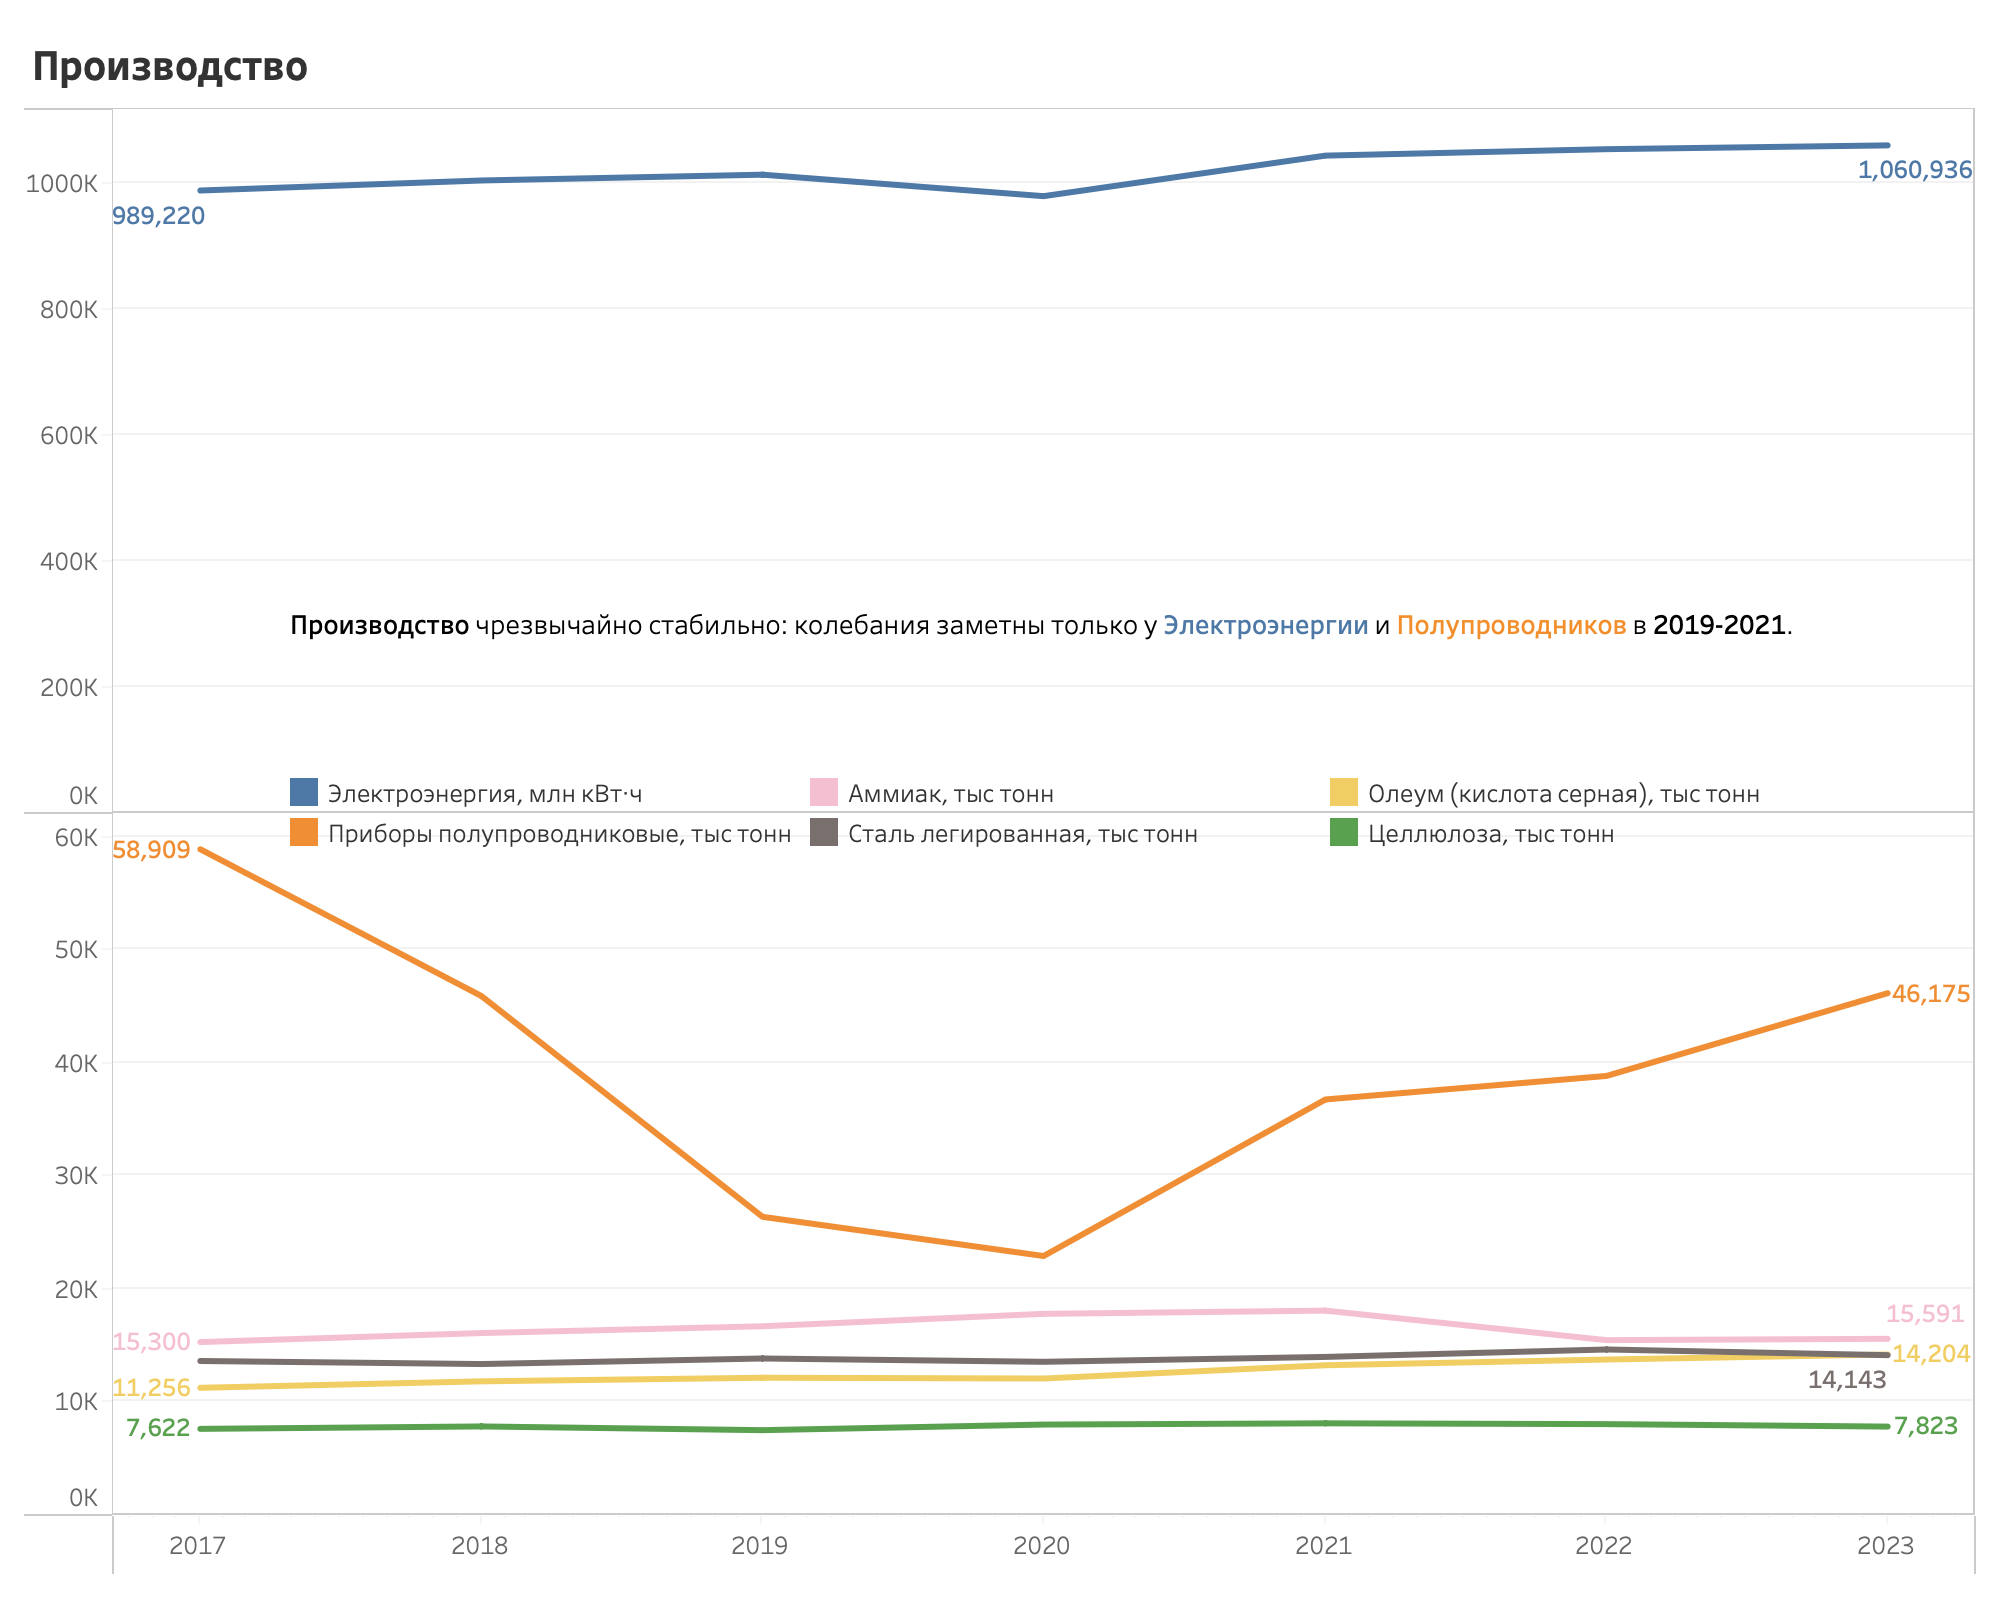

The dashboard page shown, as its layout file describes it:
{"tool":"tableau","page":{"name":"Таблица 2","canvas":[1000,800],"ordinal":4},"visuals":[{"type":"worksheet","title":"Производство","mark":"Automatic","rows":["Электроэнергия, млн кВт*ч"],"cols":["Date"],"box":[8,8,984,784]},{"type":"text","box":[57,281,928,62]},{"type":"legend","title":"Производство","param":"[federated.01hmu5t1kwo9dv1ds0fvn1njllsd].[:Measure Names]","box":[142,386,806,59]}]}

Visuals, with their boxes in screenshot pixels (x1, y1, x2, y2), scaled from the page's 1000x800 canvas onto the 2000x1600 screenshot:
"Производство" worksheet: 16/16/1984/1584
text: 114/562/1970/686
"Производство" legend: 284/772/1896/890
